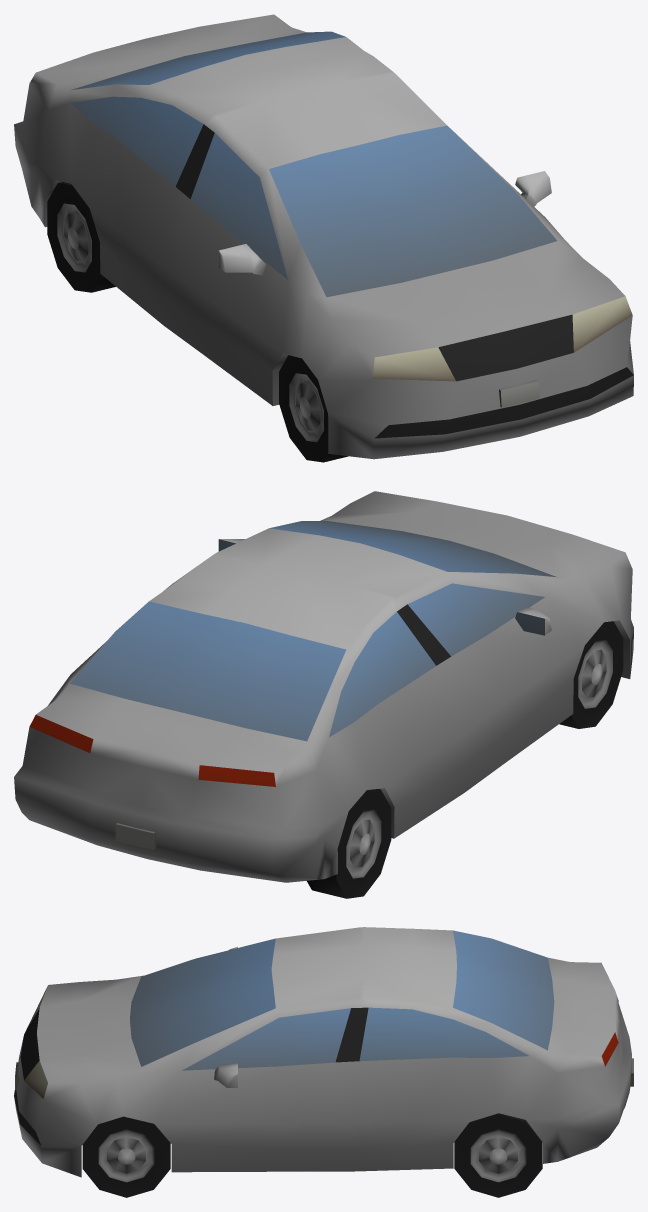
3 views of the same model, one above another, from view 1: azimuth 30°, elevation 25°; view 2: azimuth 150°, elevation 25°; view 3: azimuth 270°, elevation 25° (orthographic). The views are drawn at different scales.
Parts seen in each view (by area): view 1: color.085; view 2: color.085; view 3: color.085.
Part boxes in pixels (bbox=[...]): color.085: bbox=[14, 14, 633, 462]; color.085: bbox=[14, 491, 633, 898]; color.085: bbox=[14, 927, 633, 1197].
Bounding box in the file's own units: 0.2436 × 0.1622 × 0.5.
